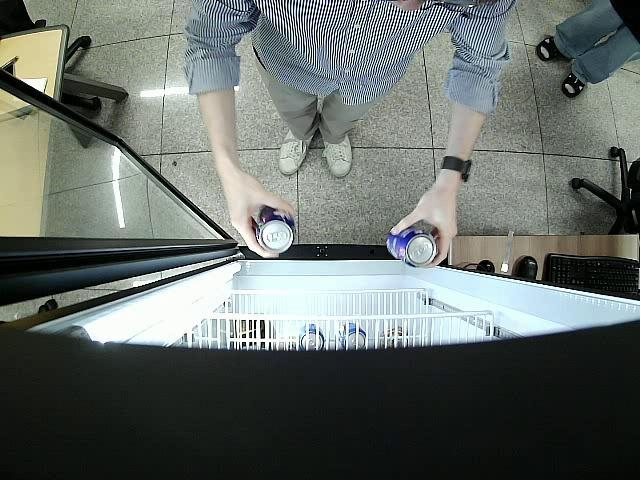14_welchsGrape: (253, 205, 296, 254), (386, 227, 440, 266)
